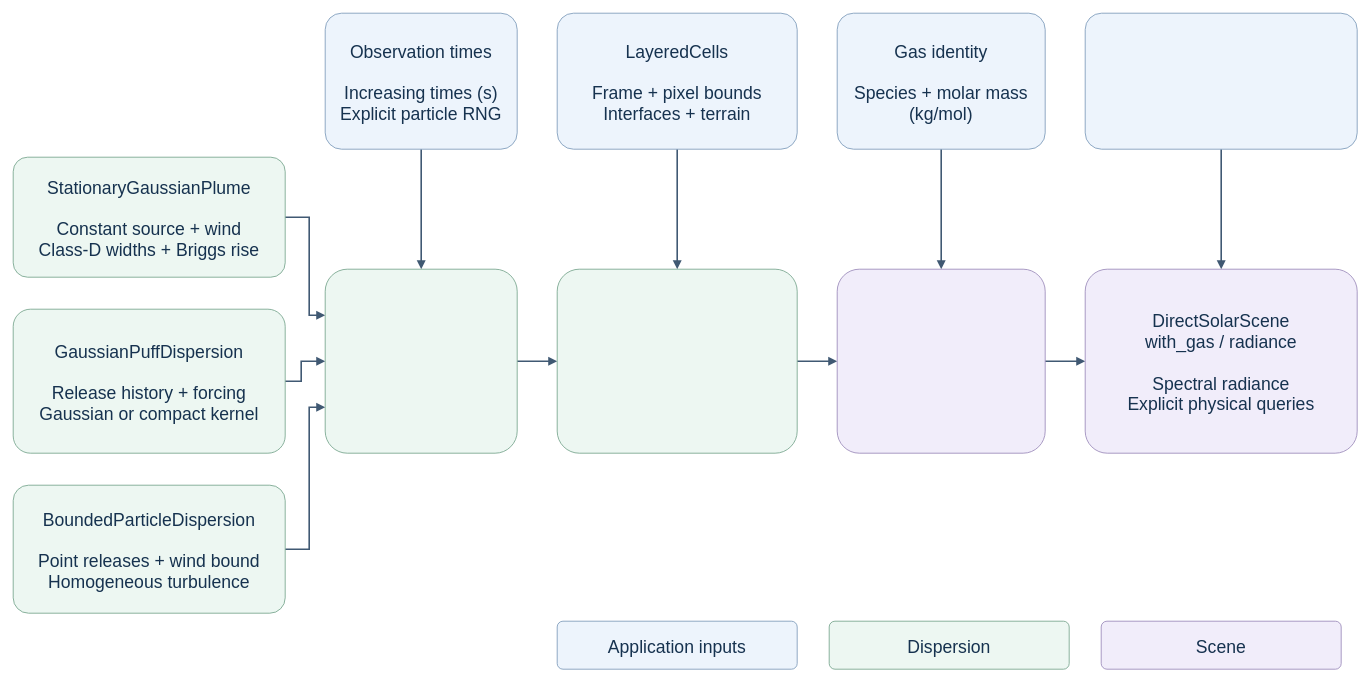
This 1370x682 diagram has some shape labels left out. The shapes that lost their labels are listed below. From the top down, each one's centre as x and y in pixels, then its label:
At (x=1220, y=80): "Physical scene preparation Atmosphere + surface Sun + frozen interval".
At (x=420, y=360): "sample_fields MassField Plume, puff or particle snapshot".
At (x=676, y=360): "pixel_layer_moments LayerMassMoments Quadrature or deposition (kg/m2 + kg/m)".
At (x=940, y=360): "gas_layer_columns GasLayerColumns Molecules/m2 Altitude centroids (m)".
